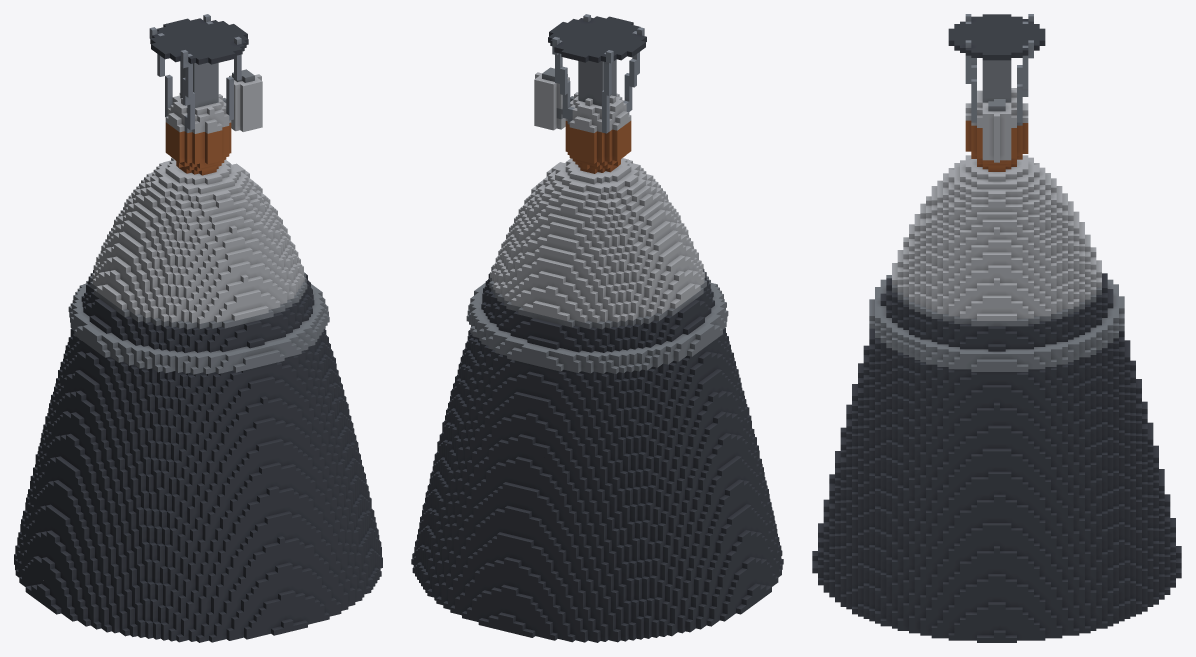
File: eng_falcao_v.glb
3 views of the same model, side by side, from view 1: azimuth 30°, elevation 25°; view 2: azimuth 150°, elevation 25°; view 3: azimuth 270°, elevation 25° (orthographic).
Visible parts, largest first — view 1: eng_falcao_v; view 2: eng_falcao_v; view 3: eng_falcao_v.
Boxes of the visible parts, left/top/right/bottom form: eng_falcao_v: left=14, top=14, right=382, bottom=642; eng_falcao_v: left=411, top=14, right=783, bottom=642; eng_falcao_v: left=812, top=14, right=1181, bottom=642.
Bounding box in the file's own units: 3.25 × 5.2 × 3.25.
